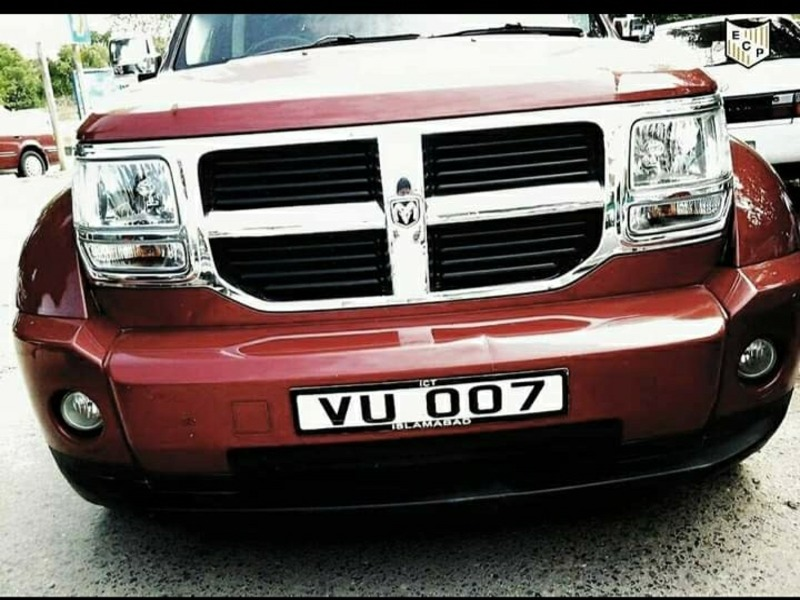License Plate: (289, 366, 569, 433)
